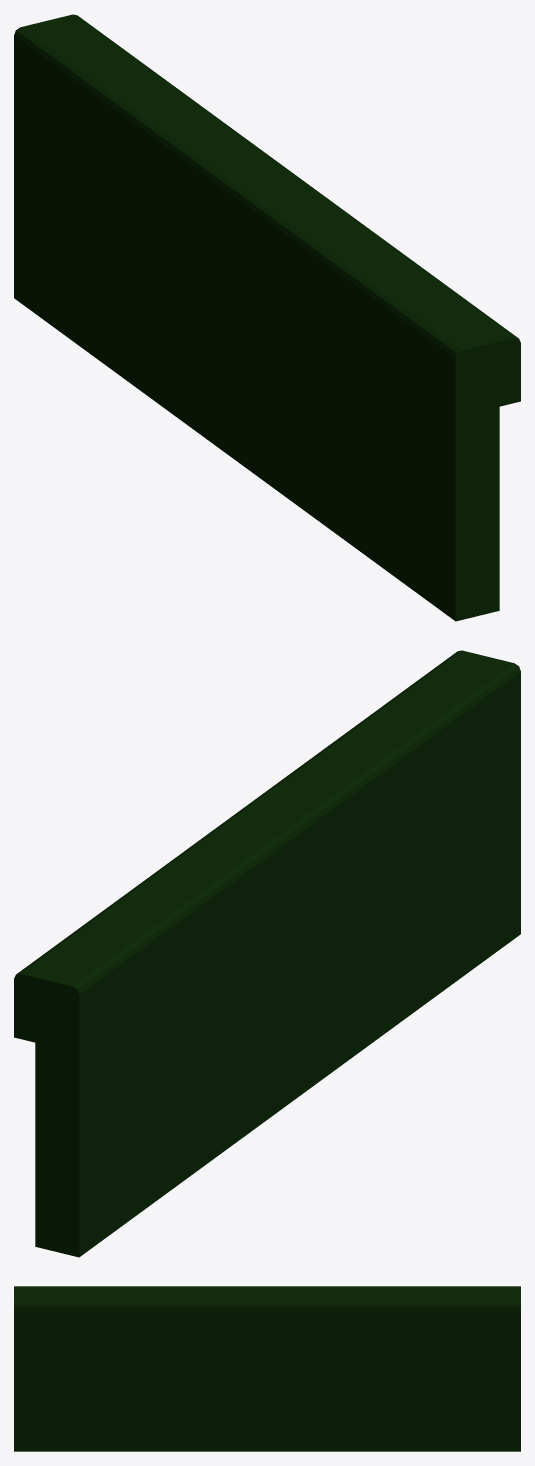
Rendered from wall1.fbx.
3 views of the same model, one above another, from view 1: azimuth 30°, elevation 25°; view 2: azimuth 150°, elevation 25°; view 3: azimuth 270°, elevation 25° (orthographic). The views are drawn at different scales.
Visible parts, largest first — view 1: wall1; view 2: wall1; view 3: wall1.
Part boxes in pixels (x1,y1,x2,y2): wall1: (14, 14, 520, 621); wall1: (14, 650, 520, 1257); wall1: (14, 1286, 520, 1451).
Bounding box in the file's own units: 1.27 × 5 × 14.87.
